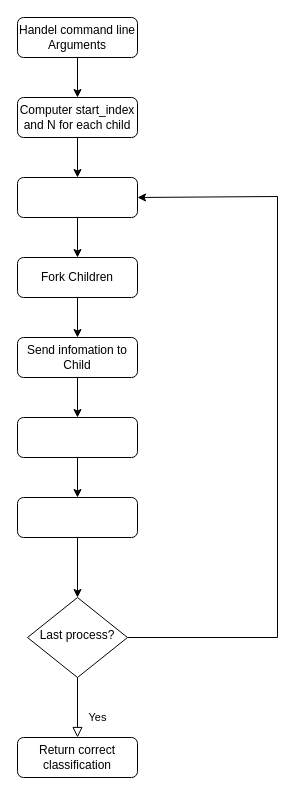
This 303x795 diagram has some shape labels left out. The shapes that lost their labels are listed below. From the top down, each one's centre as x and y in pixels, then its label:
the point at 77,197: Creat two Pipes
the point at 77,437: Call Children handeler
the point at 77,517: Release memory
